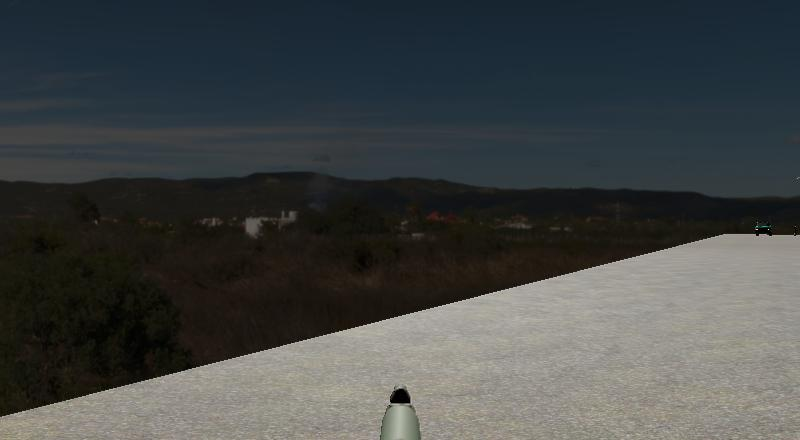car: (751, 218, 776, 239)
